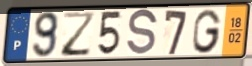5: (96, 9, 125, 58)
7: (164, 8, 188, 56)
9: (30, 10, 60, 61)
G: (191, 8, 223, 55)
S: (125, 7, 159, 59)
Z: (61, 10, 97, 58)
